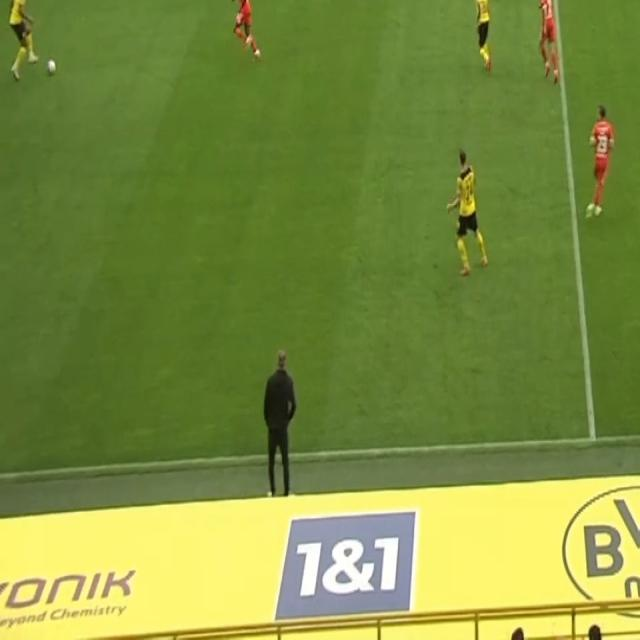ball: (46, 58, 57, 78)
